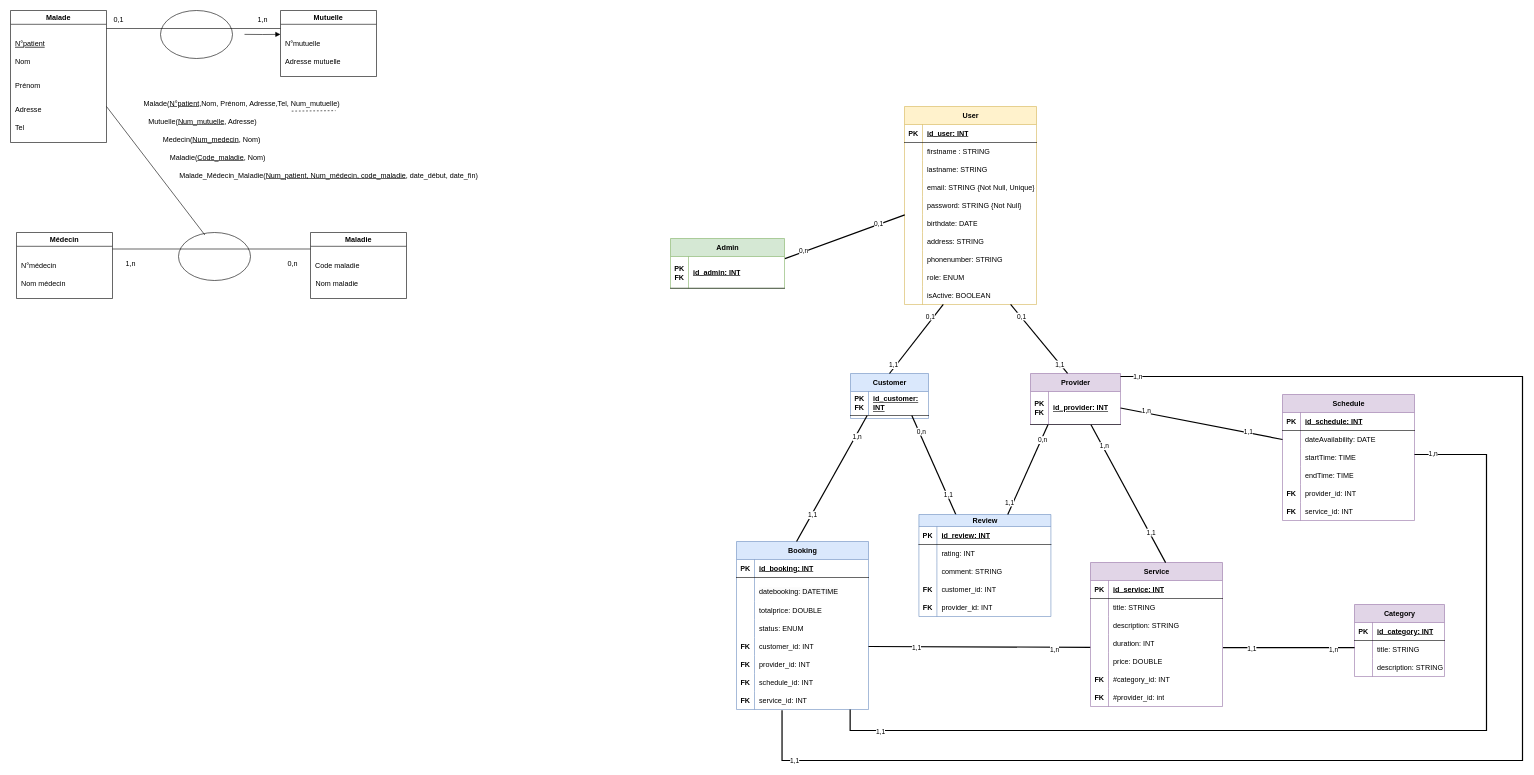
Image size: 1534x775. Some labels were removed from this diagram. The centre of each missing label's shape, as x and y in pixels:
"Disposer Date début Date fin" goes at [196,34].
"Hospitaliser Date début Date fin" goes at [214,256].
